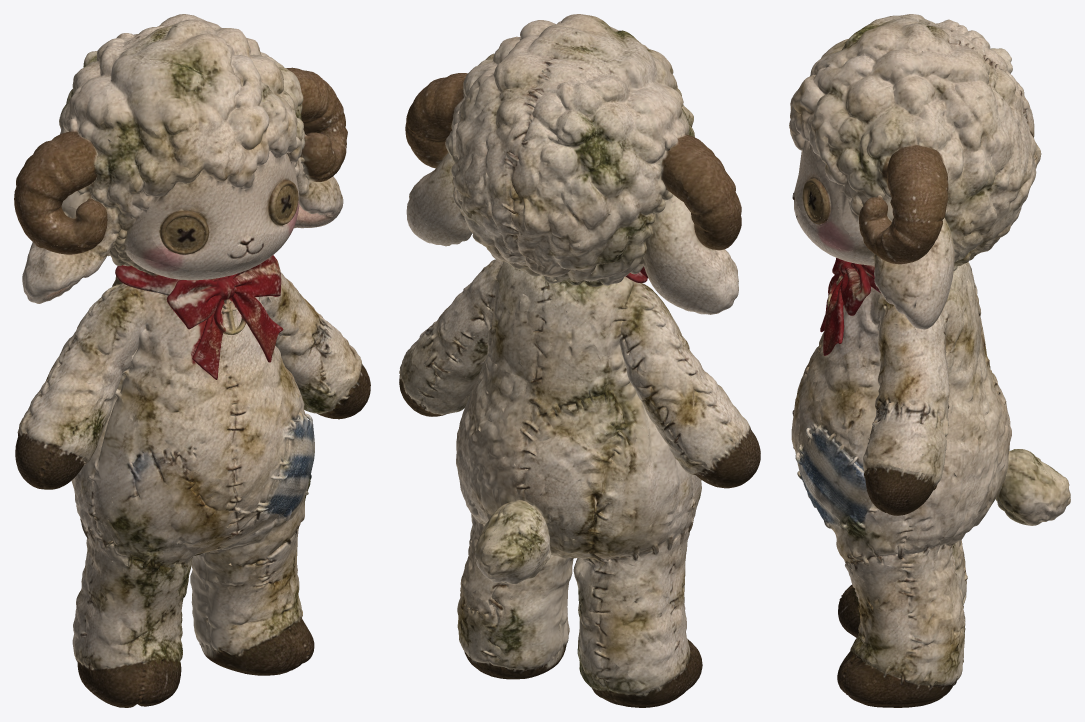
The model's file is agnello_calmo.glb.
3 views of the same model, side by side, from view 1: azimuth 30°, elevation 25°; view 2: azimuth 150°, elevation 25°; view 3: azimuth 270°, elevation 25° (orthographic). The views are drawn at different scales.
Parts seen in each view (by area): view 1: agnello_calmo.001; view 2: agnello_calmo.001; view 3: agnello_calmo.001.
Part boxes in pixels (x1,y1,x2,y2): agnello_calmo.001: (14, 14, 370, 707); agnello_calmo.001: (399, 14, 760, 707); agnello_calmo.001: (789, 14, 1070, 707).
Size of the model in its own units: 0.6768 by 1.2 by 0.4809.
Materials: 1 (1 with a texture image).
